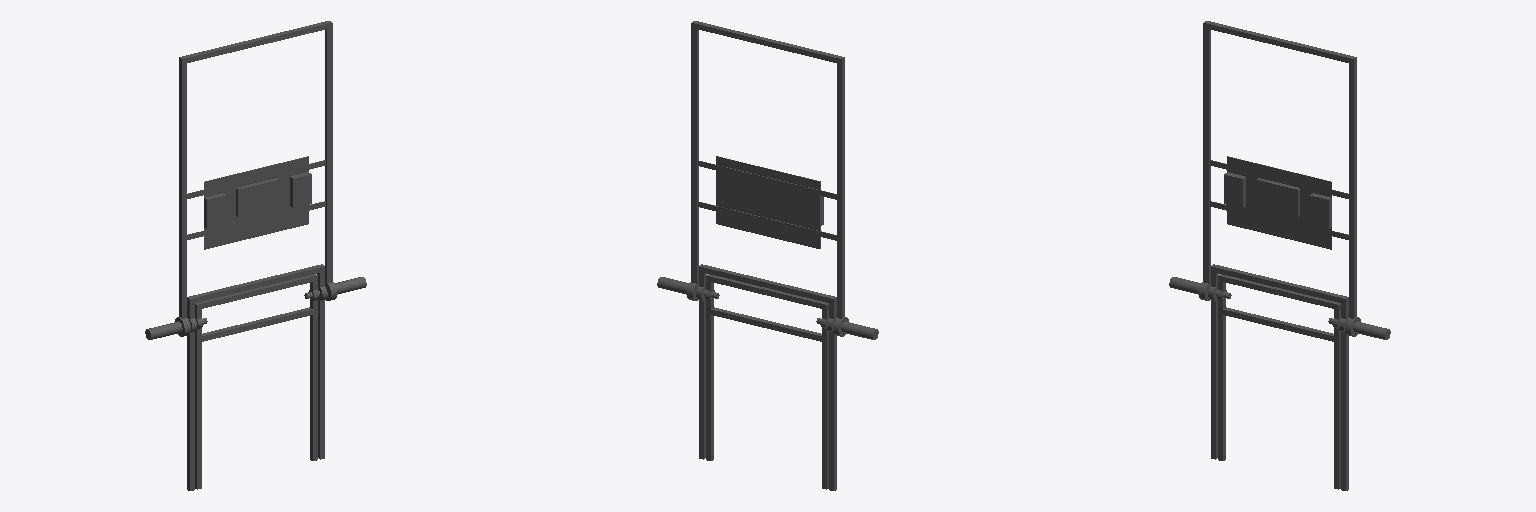
The robot description file, URDF, robot "origins":
<?xml version="1.0"?>
<robot name="origins">
  <link name="base_link">
    <visual>
      <geometry>
        <mesh filename="package://robot_description/STL/body_link.stl" scale="0.001 0.001 0.001"/>
      </geometry>
      <material name="gray">
        <color rgba="0.4 0.4 0.4 2"/>
      </material>
      <origin rpy="1.57075 0 0" xyz="0 0 0.7"/>
    </visual>
  </link>

  <link name="leg_01">
    <visual>
      <geometry>
        <mesh filename="package://robot_description/STL/leg_01.stl" scale="0.001 0.001 0.001"/>
      </geometry>
      <material name="gray">
        <color rgba="0.4 0.4 0.4 0.2"/>
      </material>
      <origin rpy="1.57075 0 0" xyz="0 0 0"/>
    </visual>
  </link>  
  
  <link name="leg_02">
    <visual>
      <geometry>
        <mesh filename="package://robot_description/STL/leg_02.stl" scale="0.001 0.001 0.001"/>
      </geometry>
      <material name="gray">
        <color rgba="0.4 0.4 0.4 1.0"/>
      </material>
      <origin rpy="1.57075 0 0" xyz="0 0 0"/>
    </visual>
  </link>

  <joint name="base_to_leg_01" type="revolute">
    <parent link="base_link"/>
    <child link="leg_01"/>
    <origin xyz="0 0 0.7"/>
    <limit lower="-1.5708" upper="1.5708" effort="10" velocity="3"/>
  </joint>

  <joint name="base_to_leg_02" type="revolute">
    <parent link="base_link"/>
    <child link="leg_02"/>
    <origin xyz="0 0 0.7"/>
    <limit lower="-1.5708" upper="1.5708" effort="10" velocity="3"/>
  </joint>

</robot>

--- Render facts (derived) ---
The picture shows the robot from 3 angles, left to right: view 1: azimuth 30°, elevation 25°; view 2: azimuth 150°, elevation 25°; view 3: azimuth 330°, elevation 25°; orthographic projection.
Robot: origins — 3 links, 2 joints (2 revolute); root link base_link; default pose: all joints at 0.
Links seen in each view (by area): view 1: base_link, leg_02, leg_01; view 2: base_link, leg_02, leg_01; view 3: base_link, leg_02, leg_01.
Boxes of the visible links, x1,y1,x2,y2 form: base_link: (145,21,366,339); leg_02: (195,274,318,489); leg_01: (187,264,327,490); base_link: (657,21,878,339); leg_02: (705,274,828,489); leg_01: (696,264,836,490); base_link: (1169,21,1390,339); leg_02: (1217,274,1340,489); leg_01: (1208,264,1348,490).
Size in the robot's own frame: 0.8568 by 0.07 by 1.65 metres.
Meshes: 3 distinct files referenced, 3 mesh visuals loaded (3 binary STL).